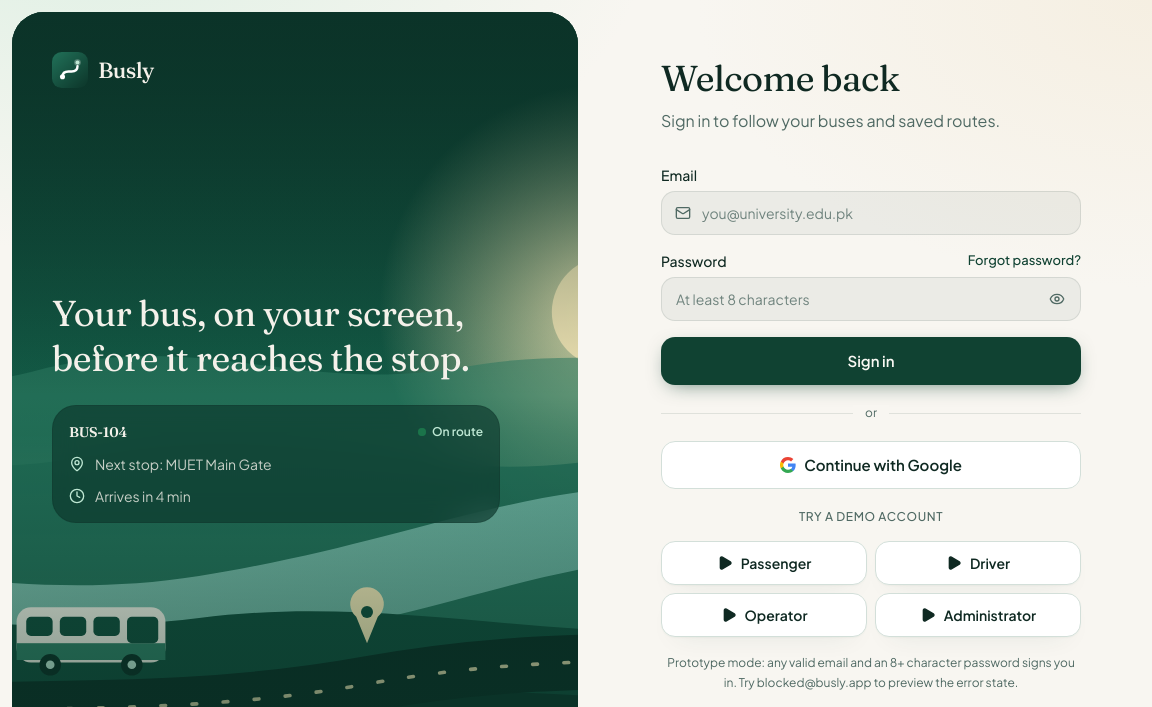
Scenario: public pages › shows validation errors on an empty login
Click the button "Sign in" at {"x": 871, "y": 361}, box [661,337,1081,385]
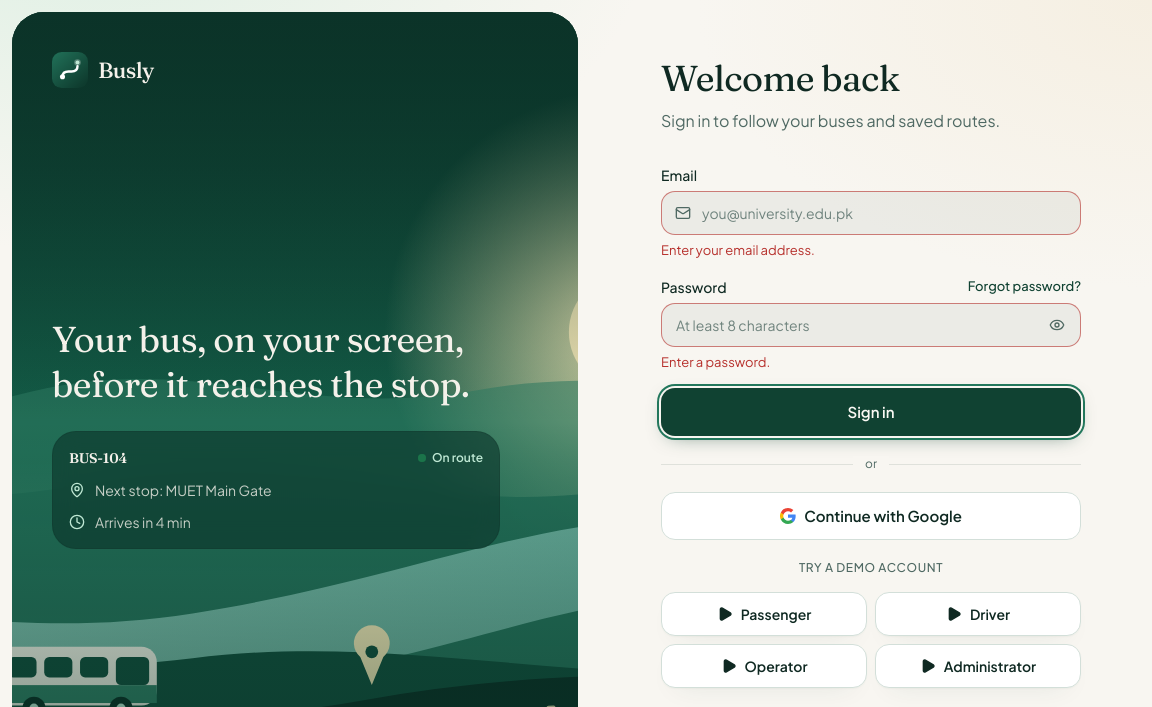
Check: the text "Enter your email address." is shown, box [661,242,815,258]
Check: the text "Enter a password." is shown, box [661,354,770,370]
